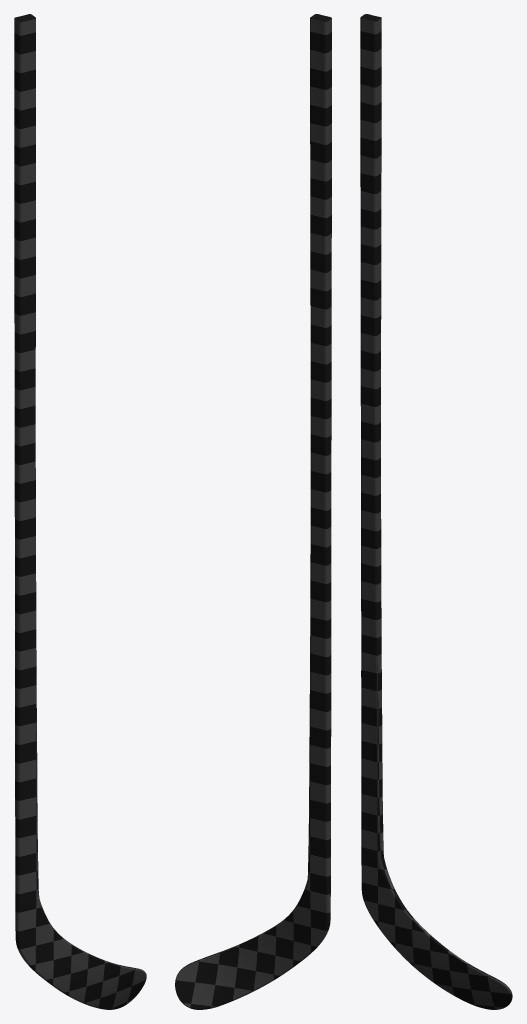
The model's file is P77-SBT.glb.
3 views of the same model, side by side, from view 1: azimuth 30°, elevation 25°; view 2: azimuth 150°, elevation 25°; view 3: azimuth 330°, elevation 25° (orthographic). The views are drawn at different scales.
Parts seen in each view (by area): view 1: geometry_0; view 2: geometry_0; view 3: geometry_0.
Boxes of the visible parts, x1,y1,x2,y2 form: geometry_0: (14, 14, 146, 1009); geometry_0: (175, 14, 331, 1009); geometry_0: (360, 14, 512, 1009).
Bounding box in the file's own units: 241 × 1650 × 60.76.
Materials: 1 (1 with a texture image).
